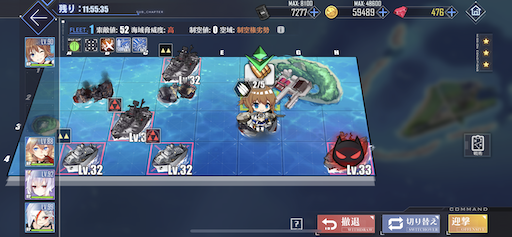boss: (322, 129, 372, 172)
lv2: (57, 127, 102, 172), (157, 42, 201, 84)
lv3: (145, 127, 193, 176), (107, 97, 151, 138)
